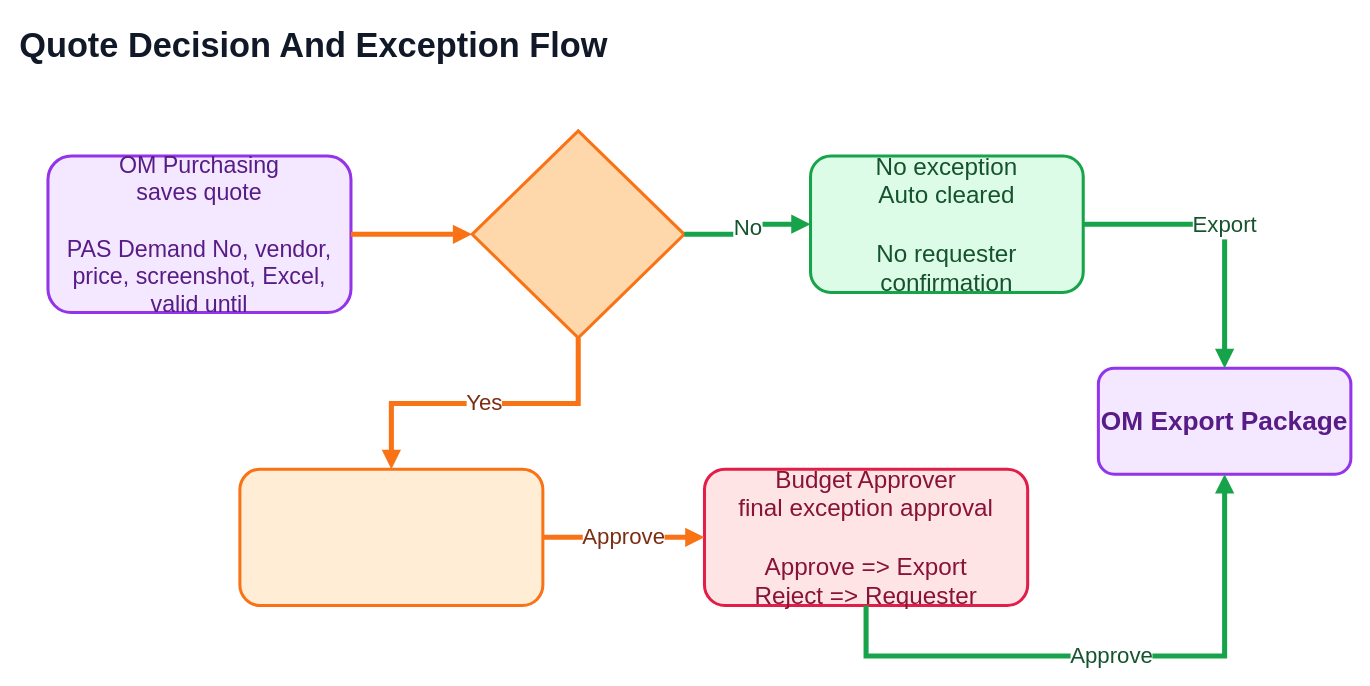
Image size: 1370x686. Some labels were removed from this diagram. The centre of each missing label's shape, as x and y in pixels:
Dept DRI price review Approve => Budget Approver Reject => Requester: the point at 391,537
Price exception? > 0.40 USD No history New item Temporary Budget: the point at 577,234
